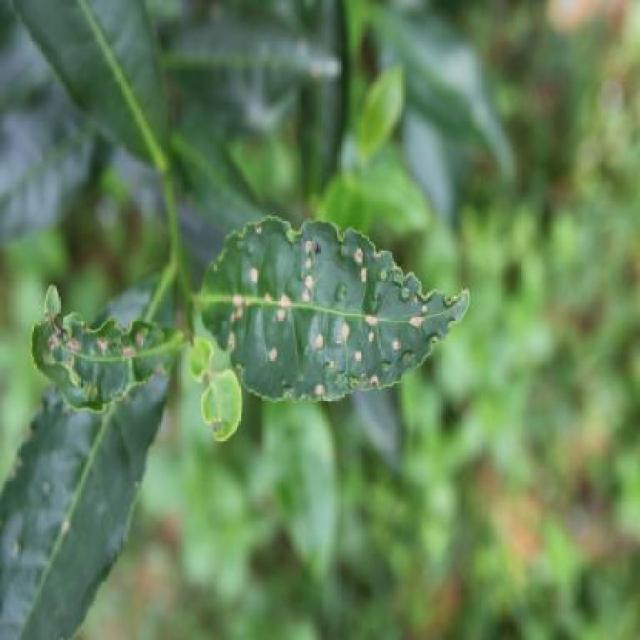Tea Mosquito bug infested leaf: (200, 209, 465, 400), (12, 266, 176, 402)
